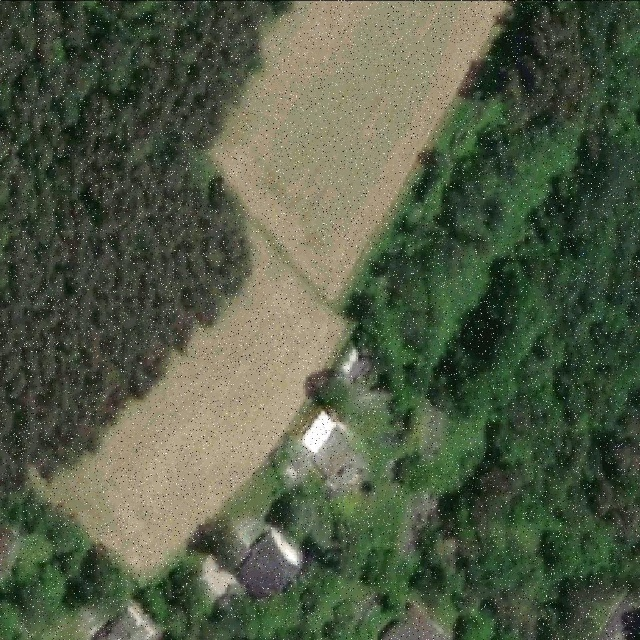vegetation: (346, 2, 640, 640), (3, 2, 289, 639), (142, 484, 407, 640)
